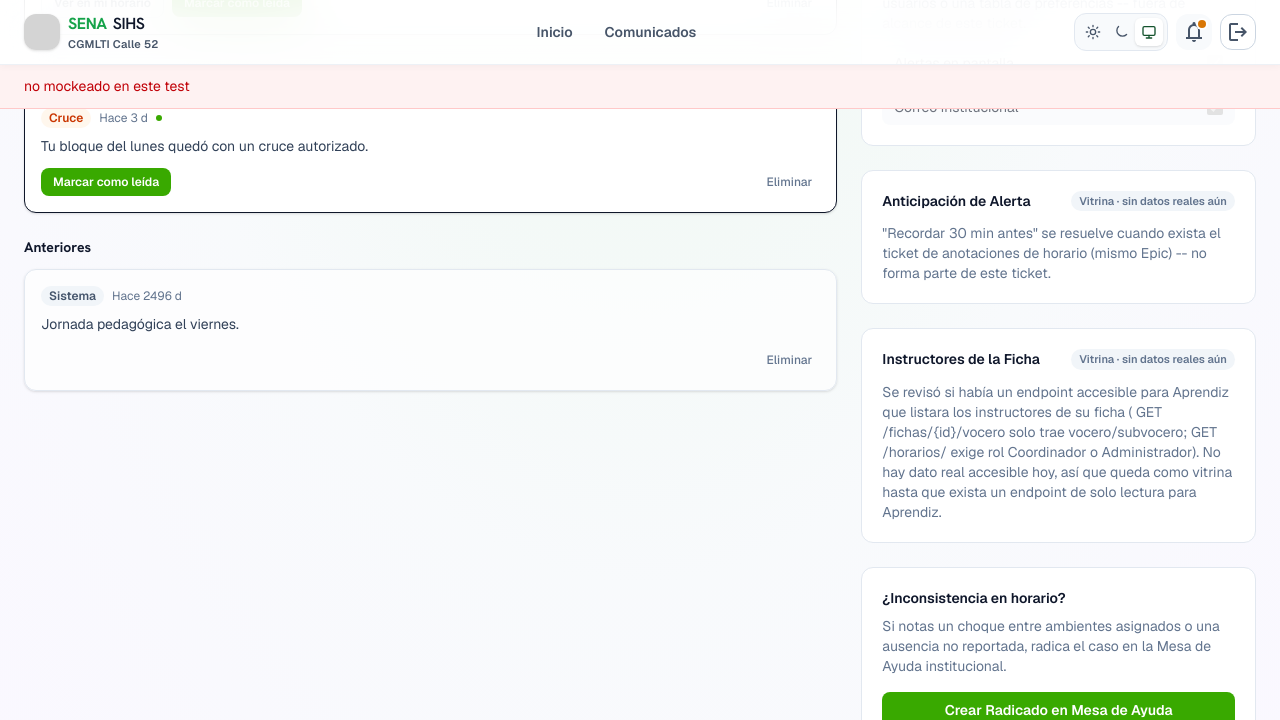
Test: Notificaciones › elimina una notificación
(page scrolled)
expect the text "Jornada pedagógica el viernes." is shown: met, box left=41, top=315, right=239, bottom=333
Click the button with aria-label "Eliminar notificación: Jornada pedagógica el viernes.": (789,360) left=758, top=346, right=820, bottom=374
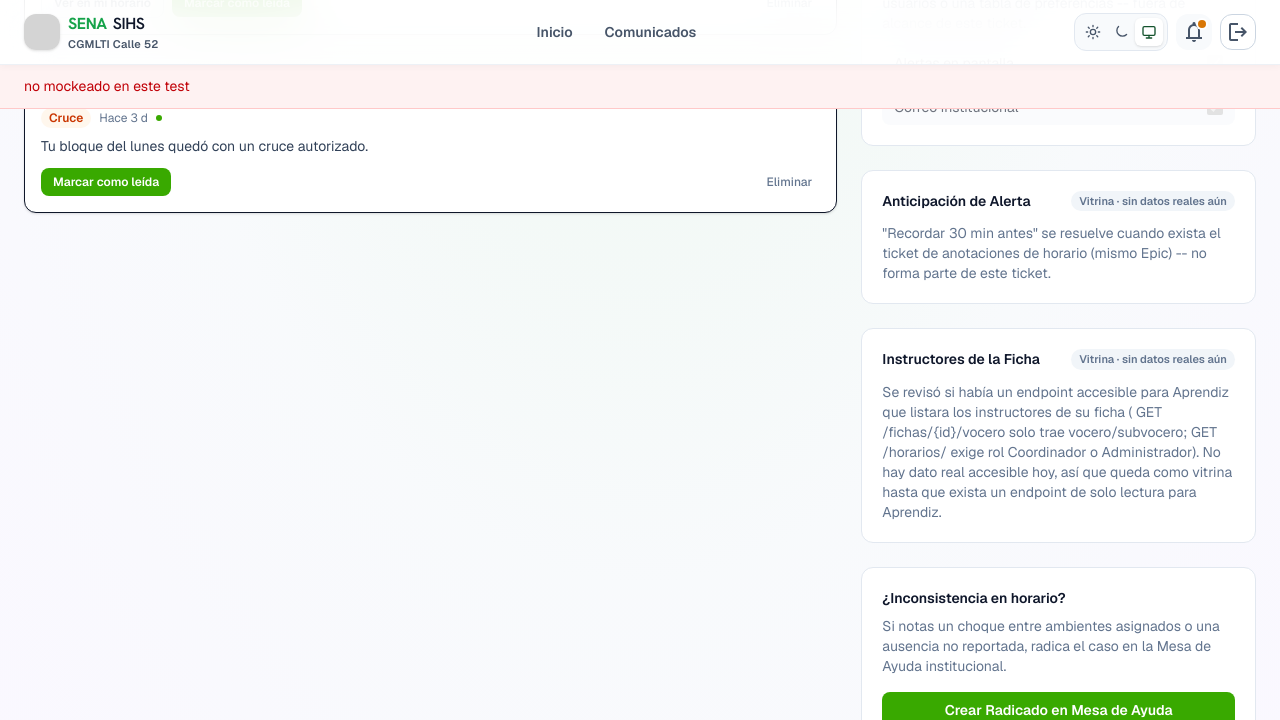
expect the text "Jornada pedagógica el viernes." is gone: met
